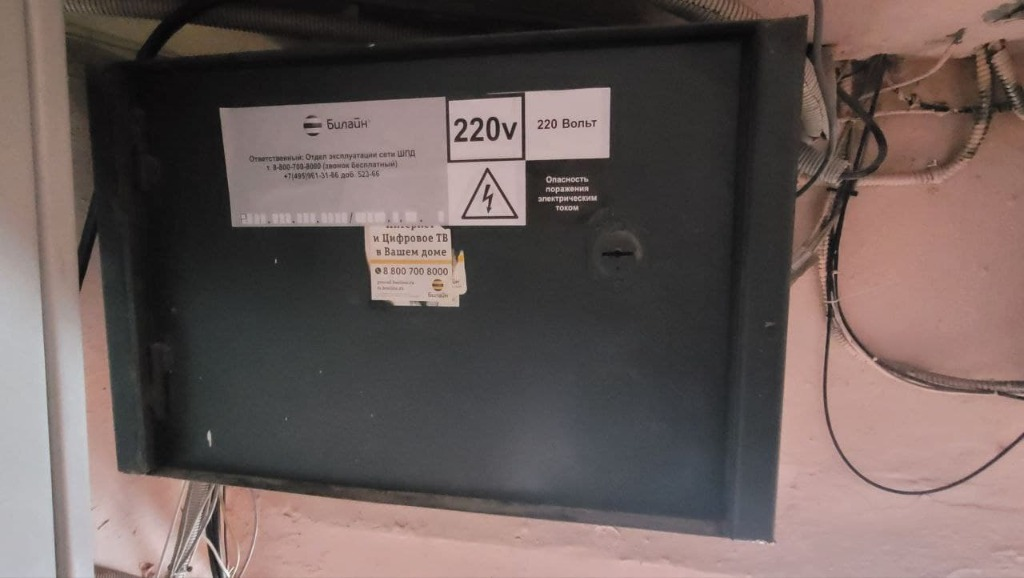e2-6u: (73, 7, 813, 551)
